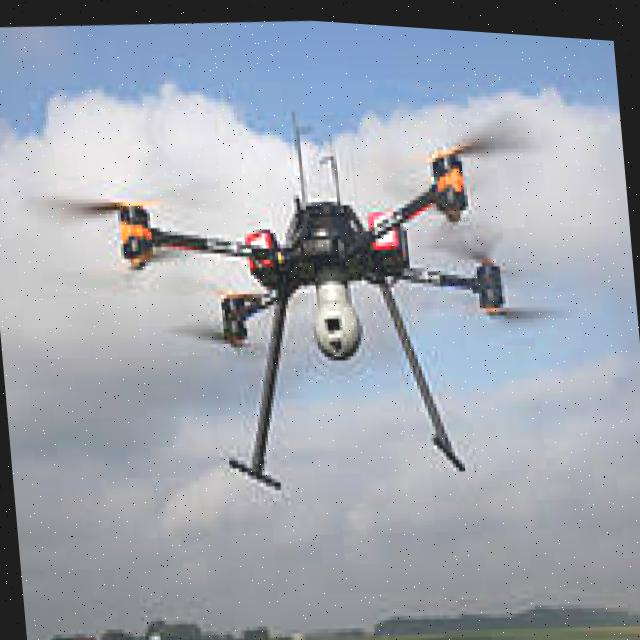drone: (30, 80, 584, 532)
